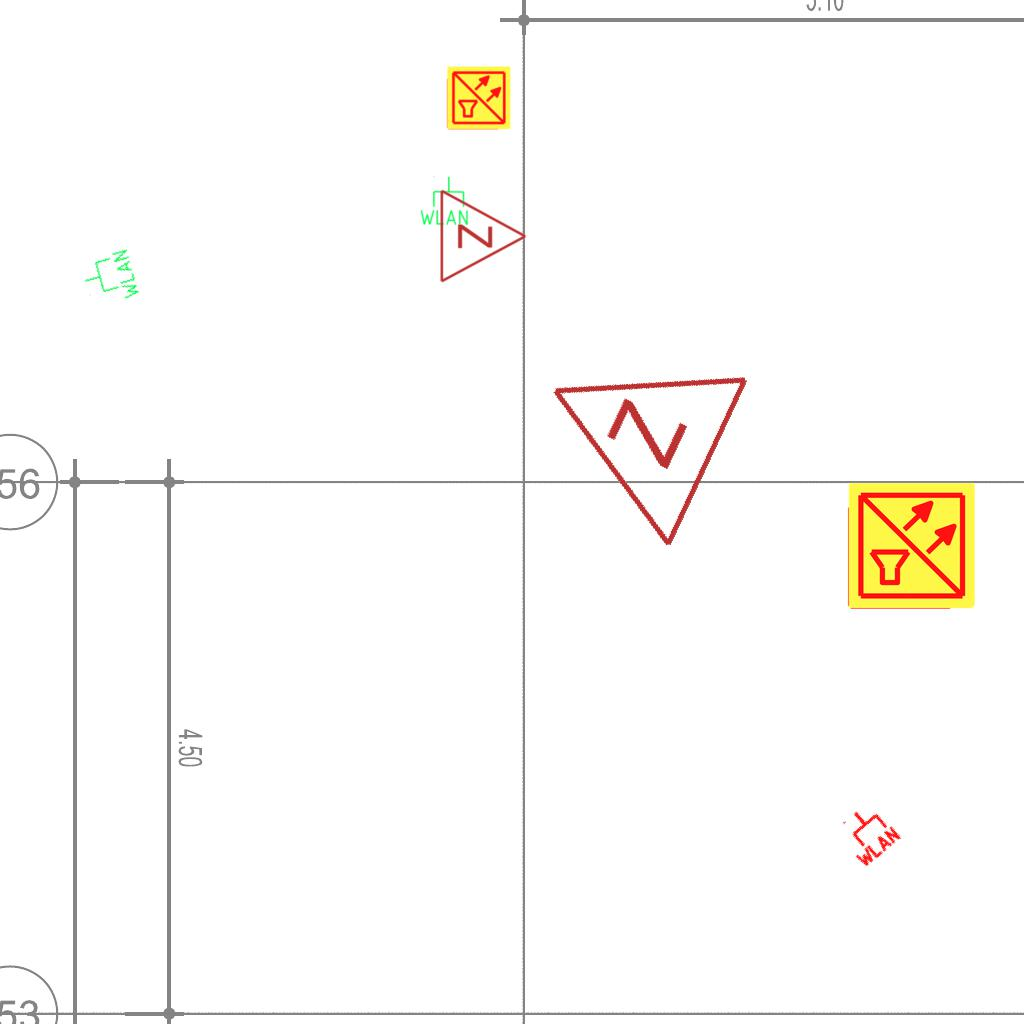OKW_Multisensormelder_(Kombination_optischer_Rauch-Kahlenmonoxid_Waerme-Melder): (846, 480, 978, 612), (446, 65, 512, 131)
WLAN: (830, 797, 904, 871), (77, 246, 143, 312), (418, 175, 470, 227)
Zimmersignalleuchte: (498, 297, 764, 561), (433, 186, 533, 284)
